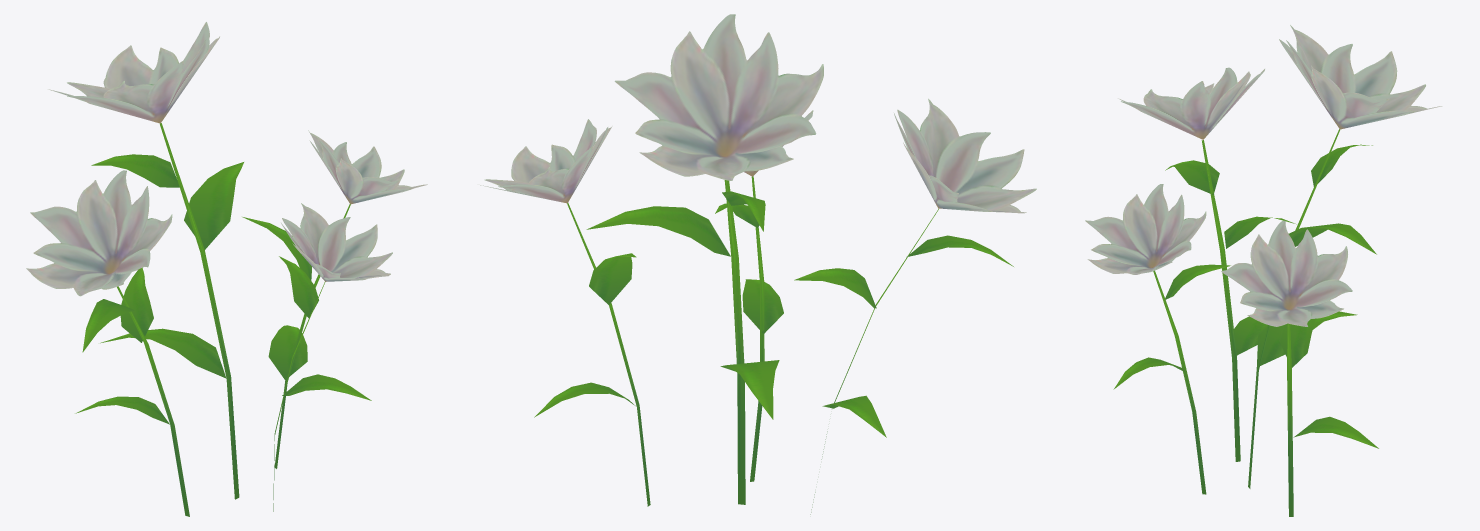
Rendered from SM_FlowerGroup_04.fbx.
3 renders of one model, left to right at view 1: azimuth 30°, elevation 25°; view 2: azimuth 150°, elevation 25°; view 3: azimuth 270°, elevation 25°, orthographic. The views are drawn at different scales.
Parts seen in each view (by area): view 1: SM_FlowerGroup_04; view 2: SM_FlowerGroup_04; view 3: SM_FlowerGroup_04.
Part boxes in pixels (box(x1,y1,x2,y2)): SM_FlowerGroup_04: box(26, 22, 427, 516); SM_FlowerGroup_04: box(480, 14, 1036, 514); SM_FlowerGroup_04: box(1085, 25, 1442, 516).
Bounding box in the file's own units: 110 × 107 × 85.3.
